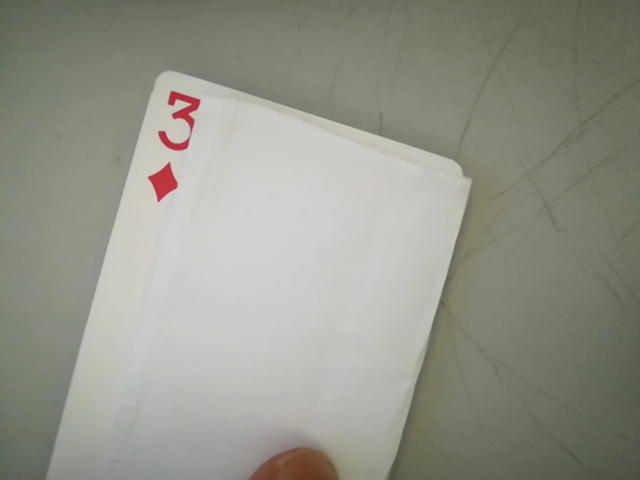fk 3: (140, 81, 210, 204)
